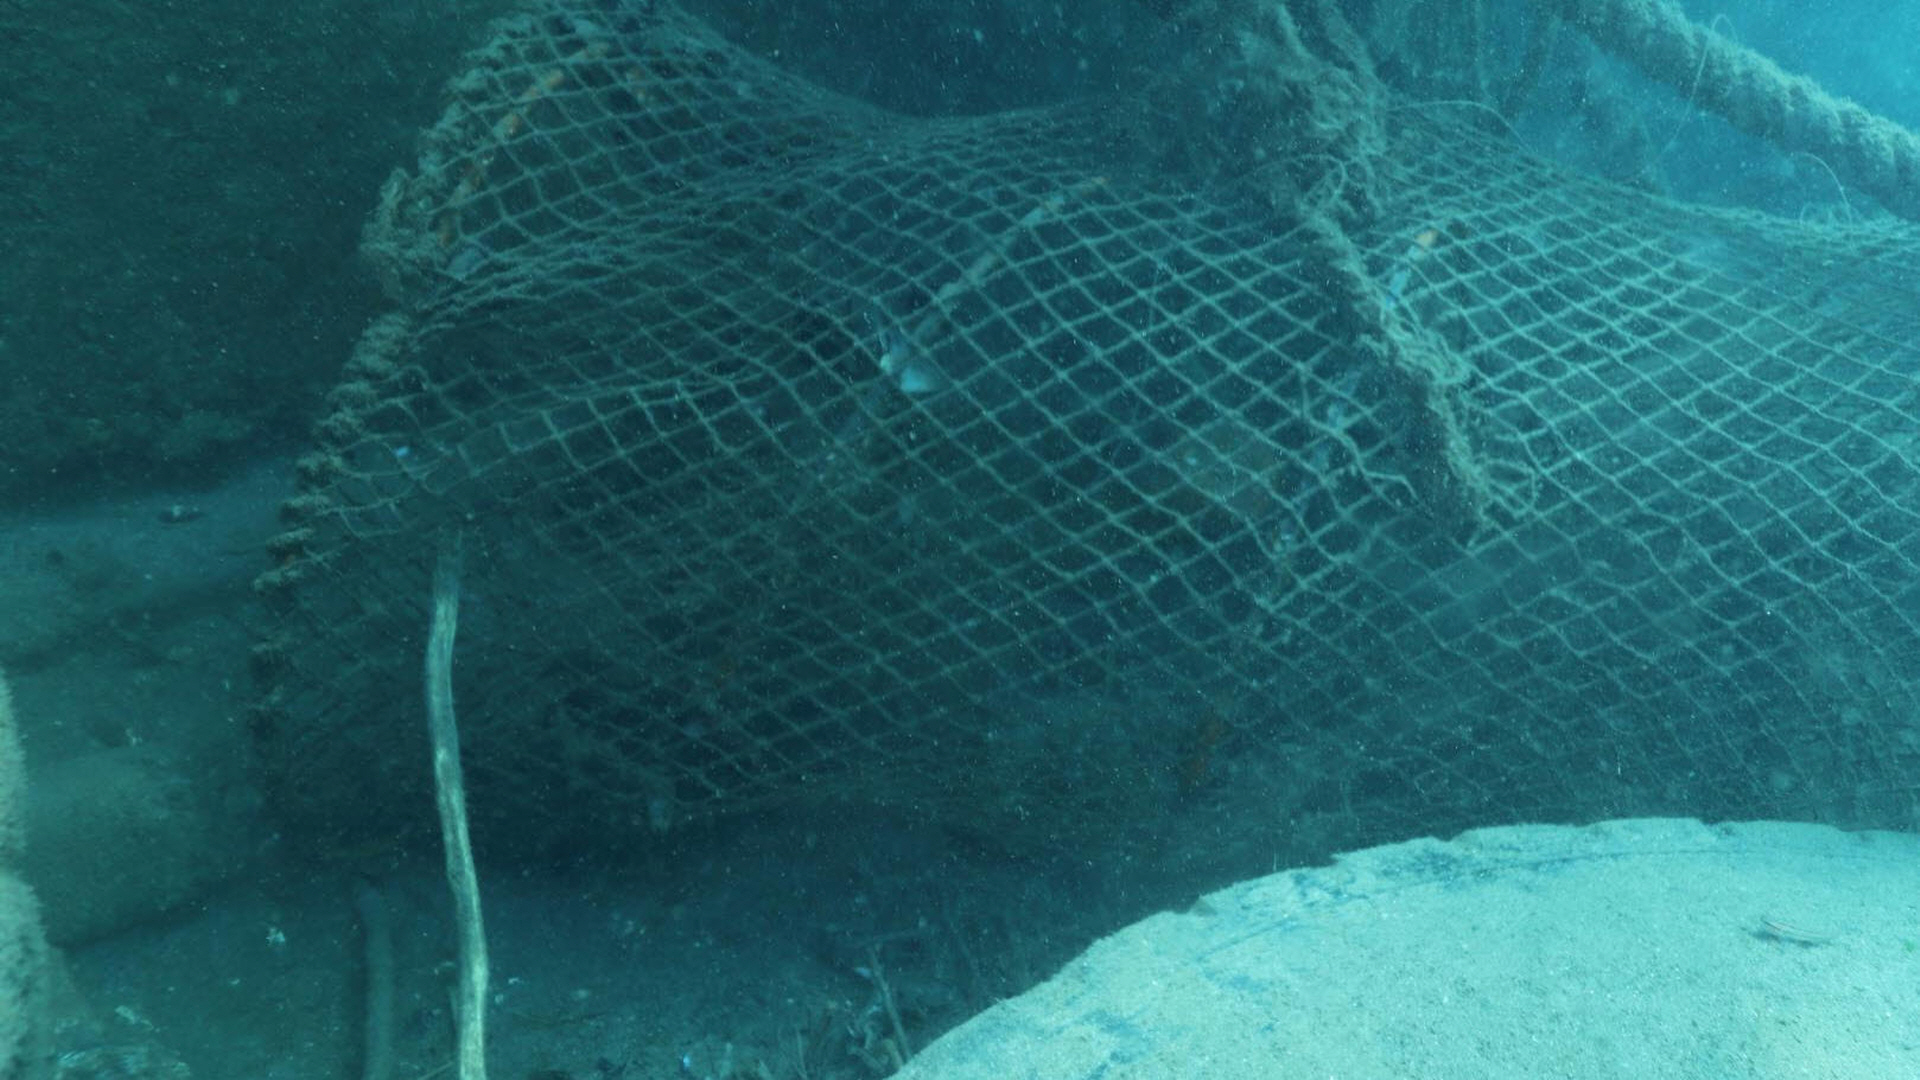rope: (1542, 0, 1920, 214)
spring fish trap: (243, 3, 1920, 872)
